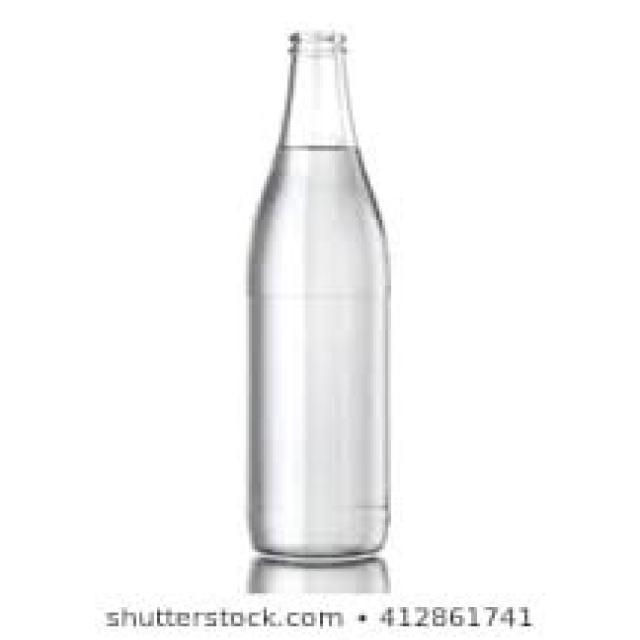Glass: (244, 30, 392, 568)
